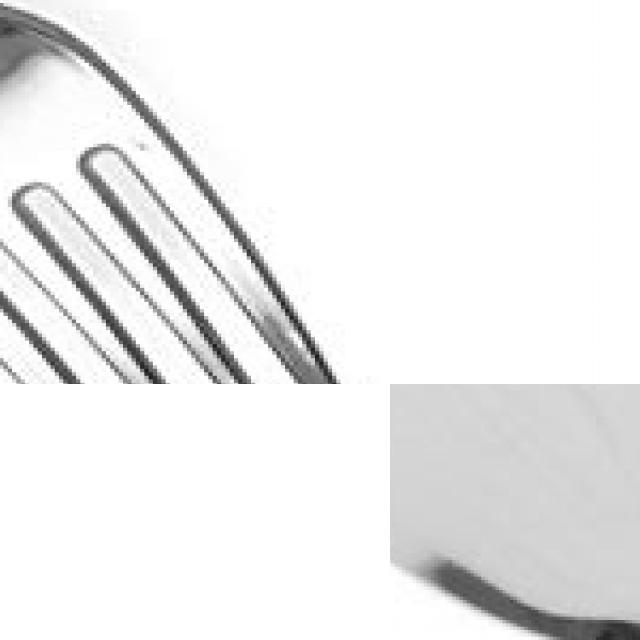forks: (0, 0, 390, 384)
spoons: (390, 384, 640, 640)
